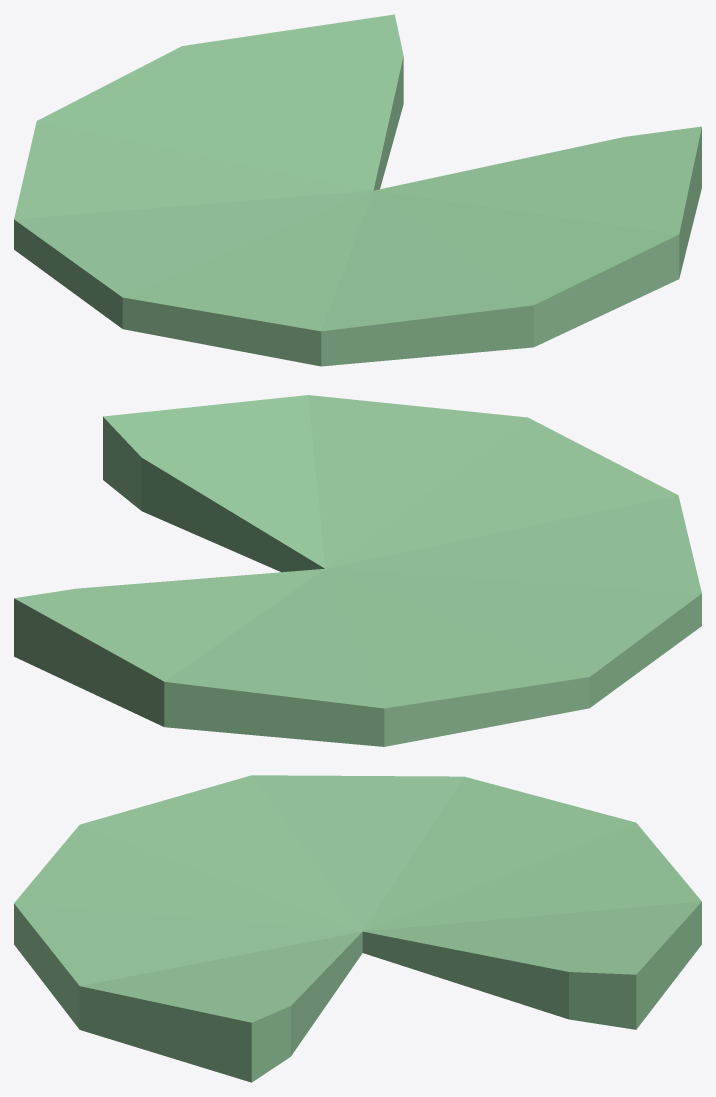
Rendered from LilyPad.fbx.
The picture shows the model from 3 angles, top to bottom: view 1: azimuth 30°, elevation 25°; view 2: azimuth 150°, elevation 25°; view 3: azimuth 270°, elevation 25°; orthographic projection. The views are drawn at different scales.
Visible parts, largest first — view 1: Cylinder; view 2: Cylinder; view 3: Cylinder.
Part boxes in pixels (left/top/right/bottom): Cylinder: left=14, top=14, right=701, bottom=366; Cylinder: left=14, top=395, right=701, bottom=746; Cylinder: left=14, top=775, right=701, bottom=1082.
Bounding box in the file's own units: 190 × 19.81 × 200.
